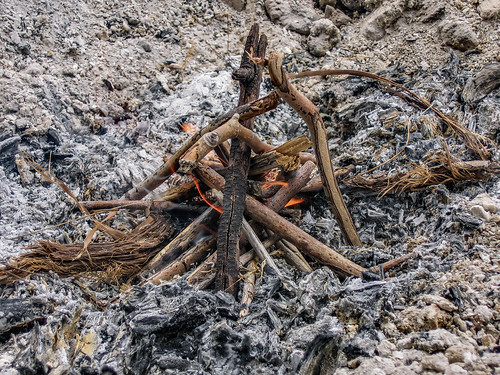fireplace: (106, 30, 372, 317)
